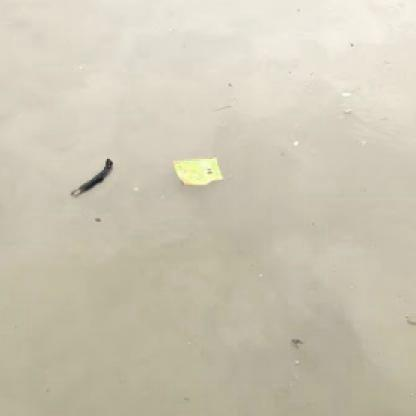Trash: (175, 157, 227, 190)
